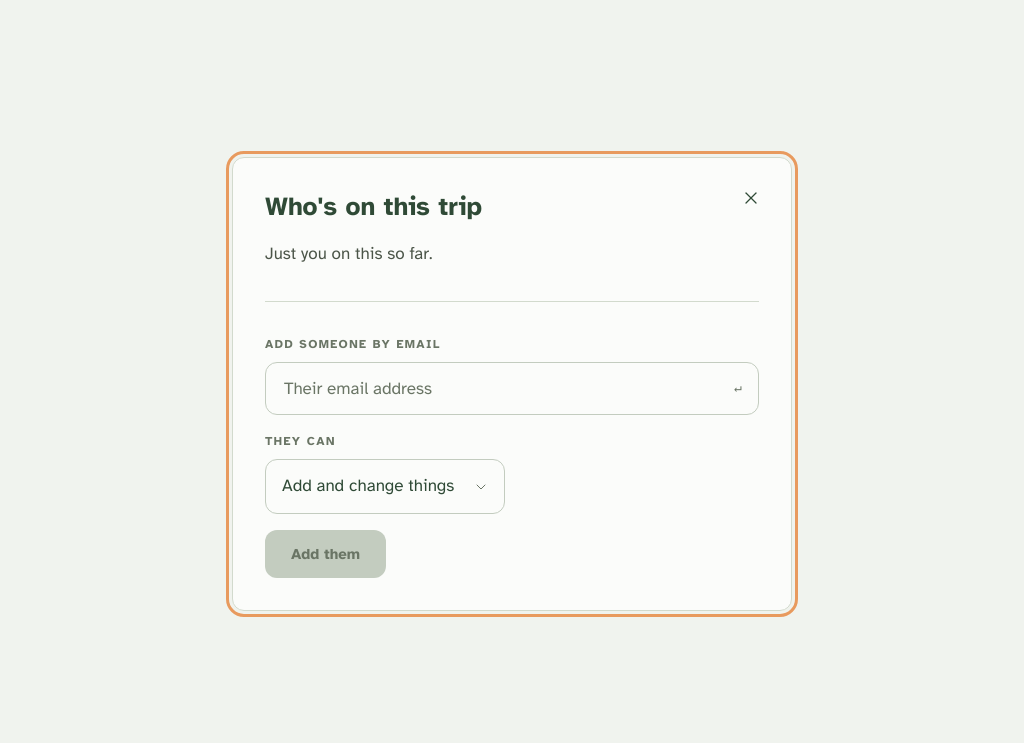
SharePanel › adds someone by email and leaves the outcome on screen, not in a toast
This screenshot has width=1024, height=743.
Expected: the text "Just you on this so far." is shown, [265,243,432,264]
Type "sarah@wend.app" into the field labelled "Add someone by email" at [502, 388], box [282,377,722,400]
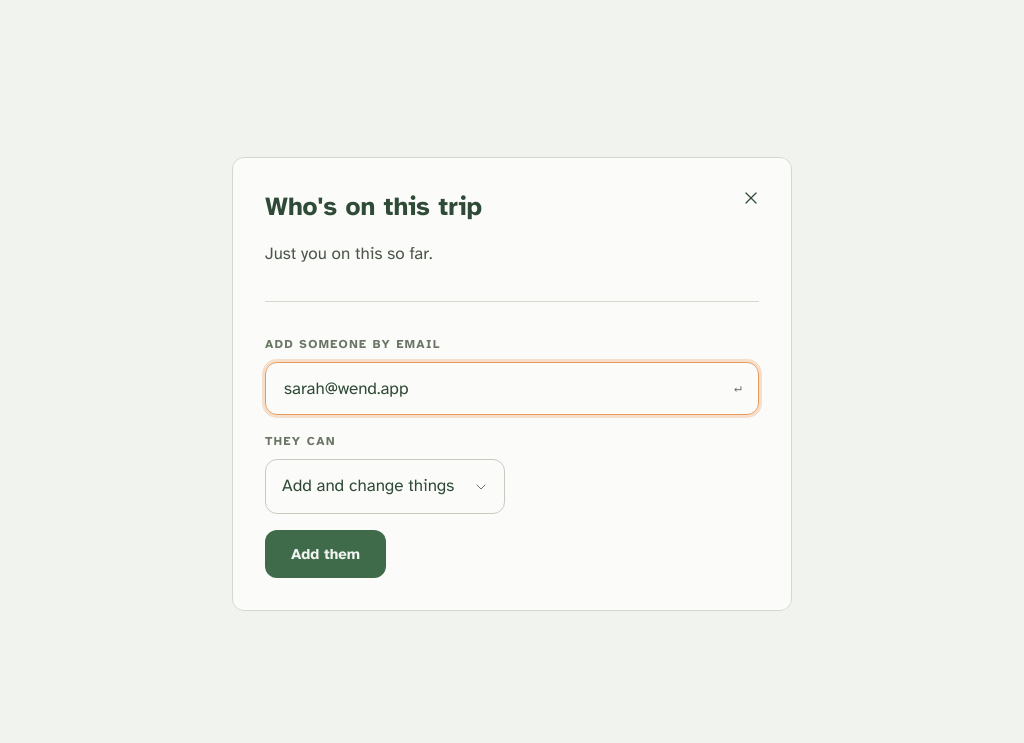
Click the button "Add them" at [326, 554], box [265,530,386,578]
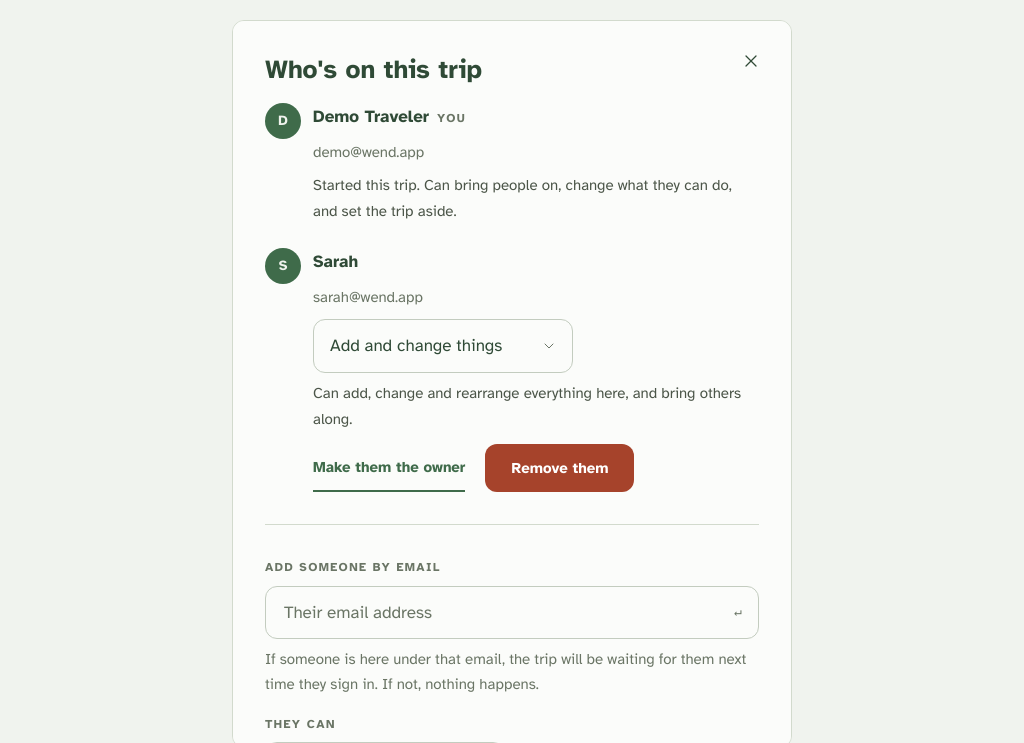
Now the text "If someone is here under that email, the trip will be waiting for them next time they sign in. If not, nothing happens." is shown, box [265,650,746,693]
Now the text "Sarah" is shown, box [313,248,358,277]
Now the field labelled "Add someone by email" is empty, box [282,601,722,624]
